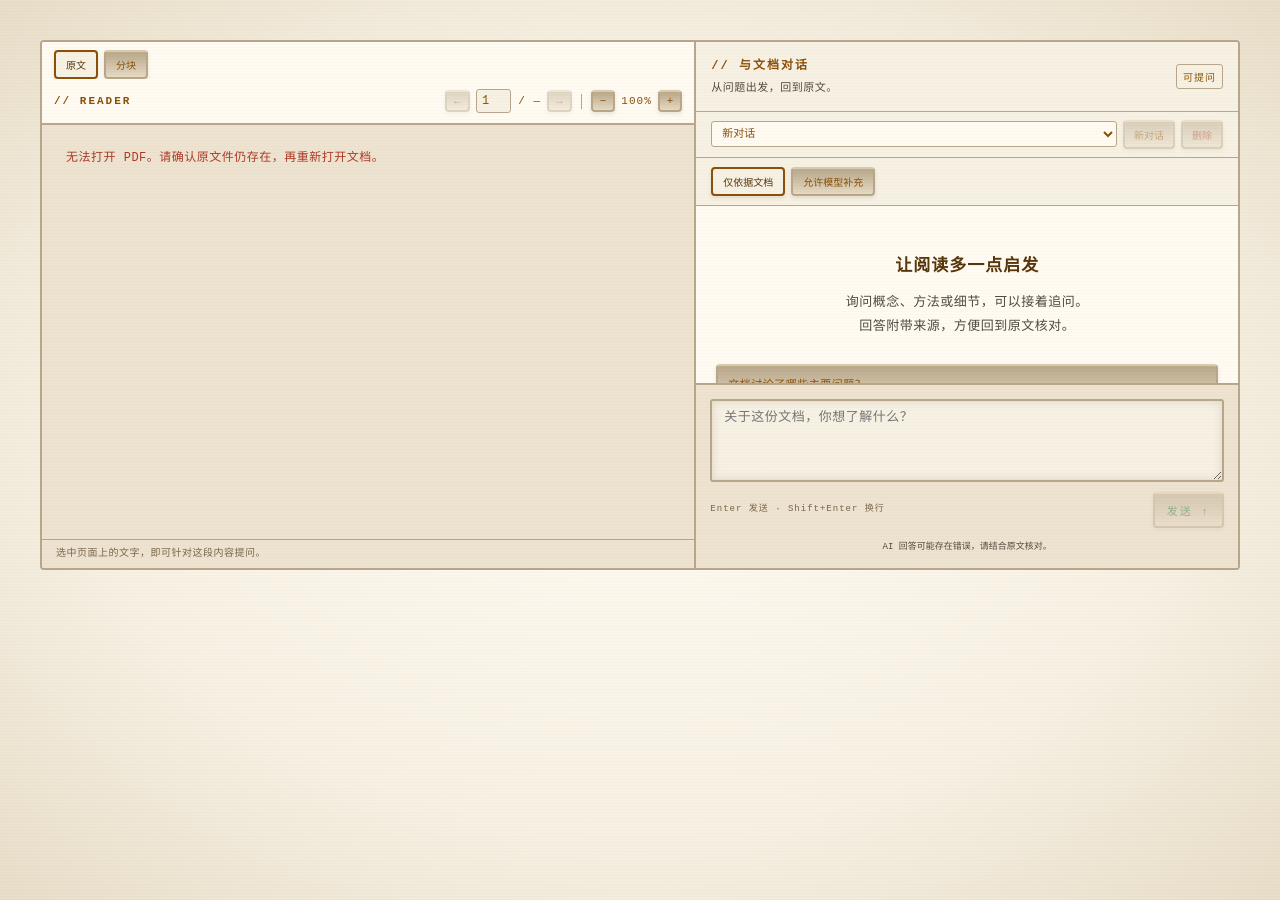
Test: open mode labels model-supplied content and warns about unknown citations
Click the button "允许模型补充" at (833, 181), box 791,167 -> 875,196
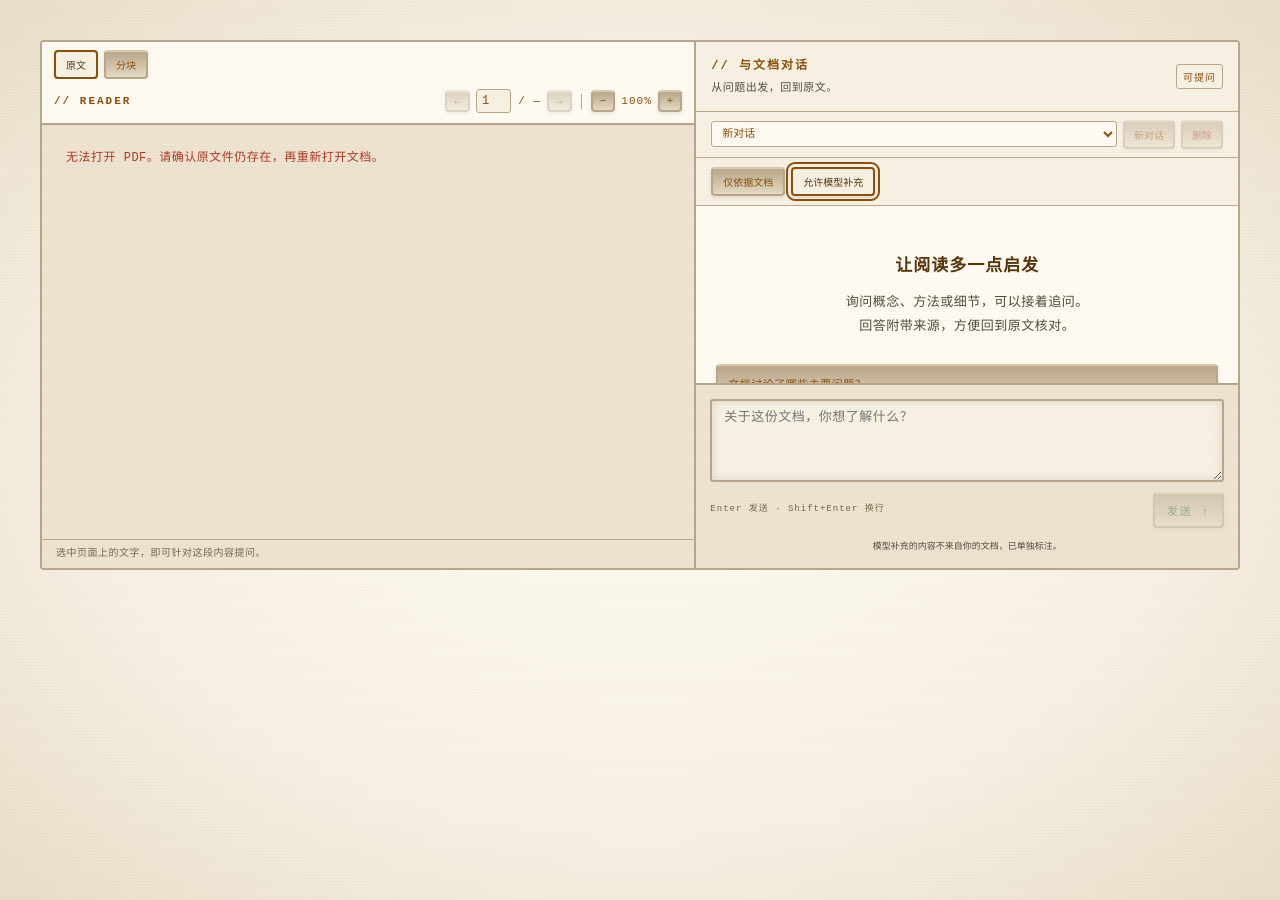
Type "Why?" into the text box at (967, 440), box 710,399 -> 1224,482
Then press Enter
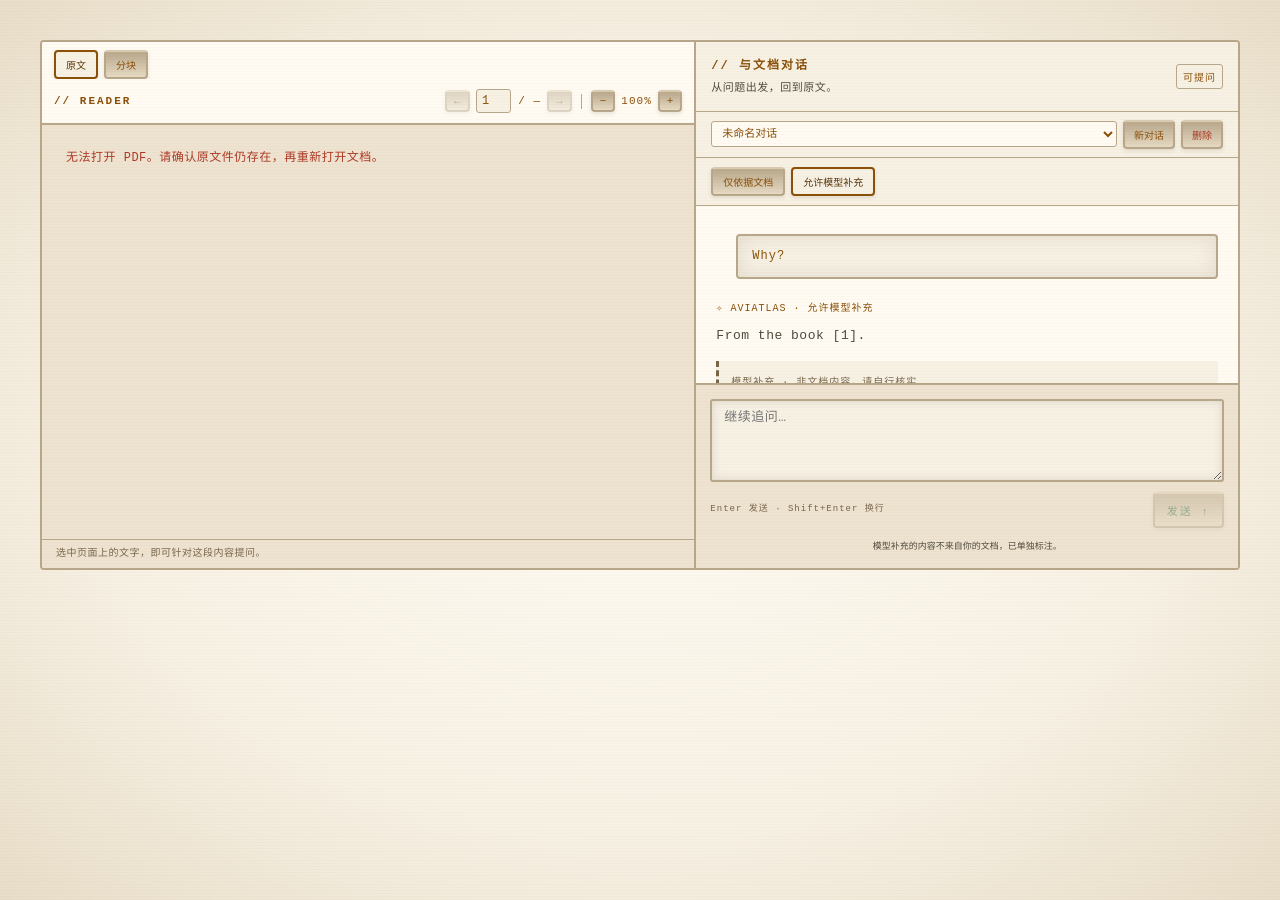
Expected: the text "From the book [1]." is shown, 716,328 -> 866,343
